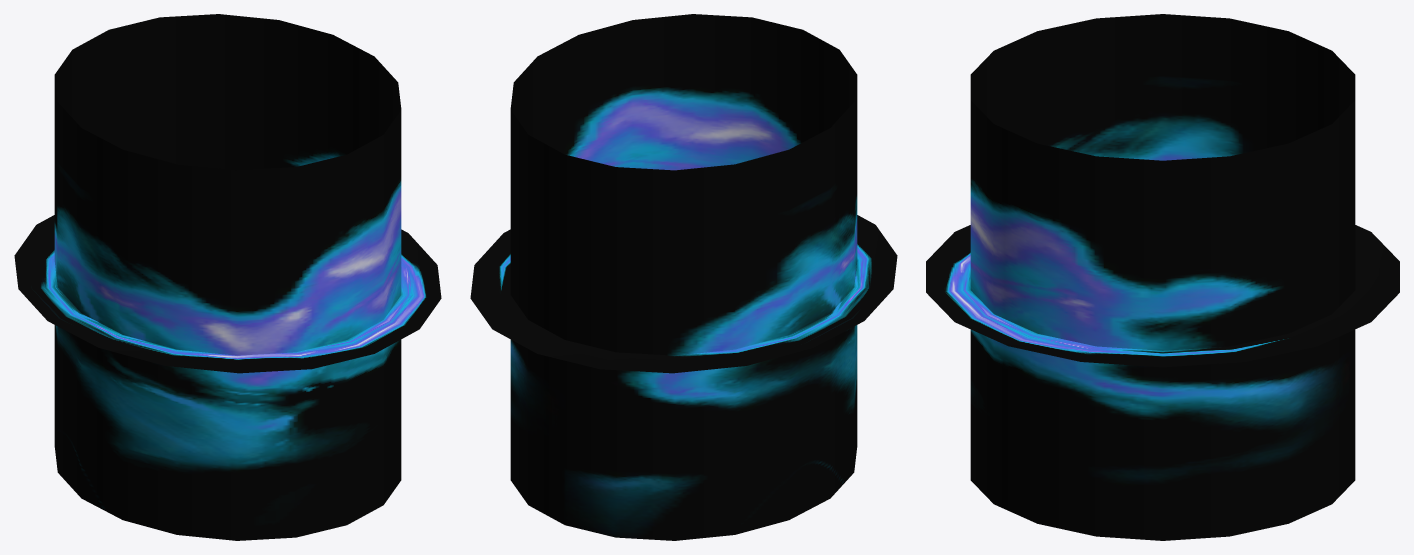
File: Effect_3104skill_B.fbx
3 renders of one model, left to right at view 1: azimuth 30°, elevation 25°; view 2: azimuth 150°, elevation 25°; view 3: azimuth 270°, elevation 25°, orthographic. The views are drawn at different scales.
Visible parts, largest first — view 1: Effect_3004attack01; view 2: Effect_3004attack01; view 3: Effect_3004attack01.
Part boxes in pixels (<box>): Effect_3004attack01: <box>14,14,441,540</box>; Effect_3004attack01: <box>470,14,897,540</box>; Effect_3004attack01: <box>926,14,1399,540</box>.
Size of the model in its own units: 1.18 by 1.16 by 1.31.
Materials: 1 (1 with a texture image).
